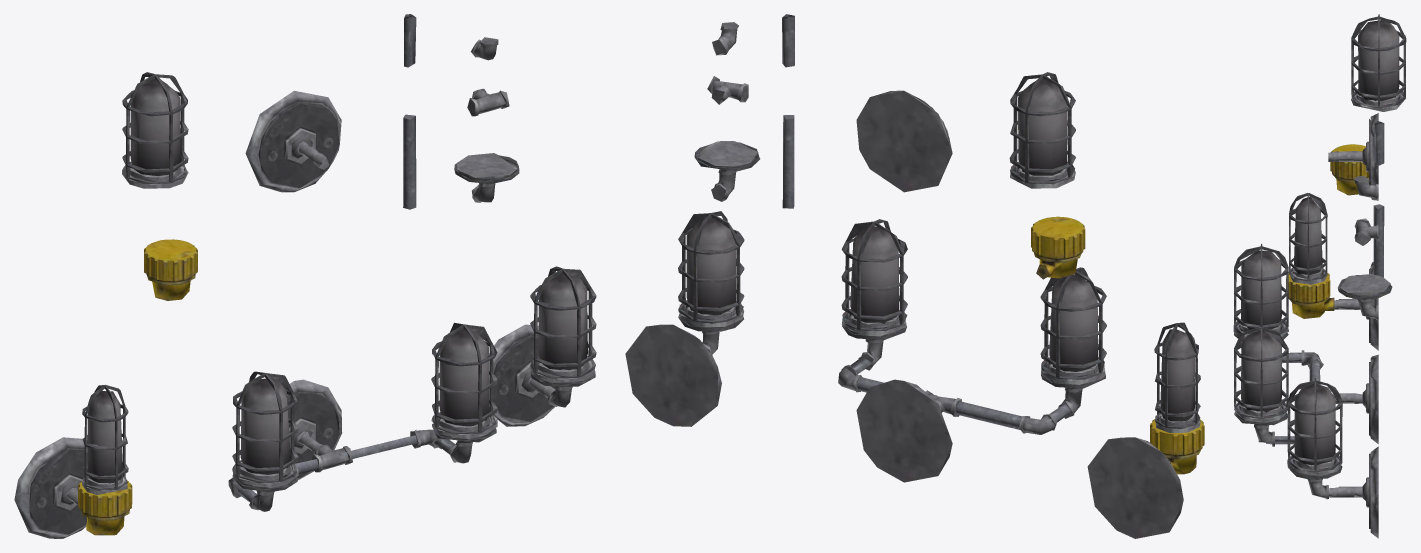
The model's file is industrial_caged_sconce.glb.
The picture shows the model from 3 angles, left to right: view 1: azimuth 30°, elevation 25°; view 2: azimuth 150°, elevation 25°; view 3: azimuth 270°, elevation 25°; orthographic projection. The views are drawn at different scales.
Parts seen in each view (by area): view 1: industrial_caged_sconce_b; view 2: industrial_caged_sconce_b; view 3: industrial_caged_sconce_b.
Part boxes in pixels (left/top/right/bottom): industrial_caged_sconce_b: left=14, top=14, right=596, bottom=538; industrial_caged_sconce_b: left=625, top=14, right=1204, bottom=538; industrial_caged_sconce_b: left=1233, top=14, right=1406, bottom=538.
Bounding box in the file's own units: 1.21 × 0.9129 × 0.3894.
1 material, 1 textured.
